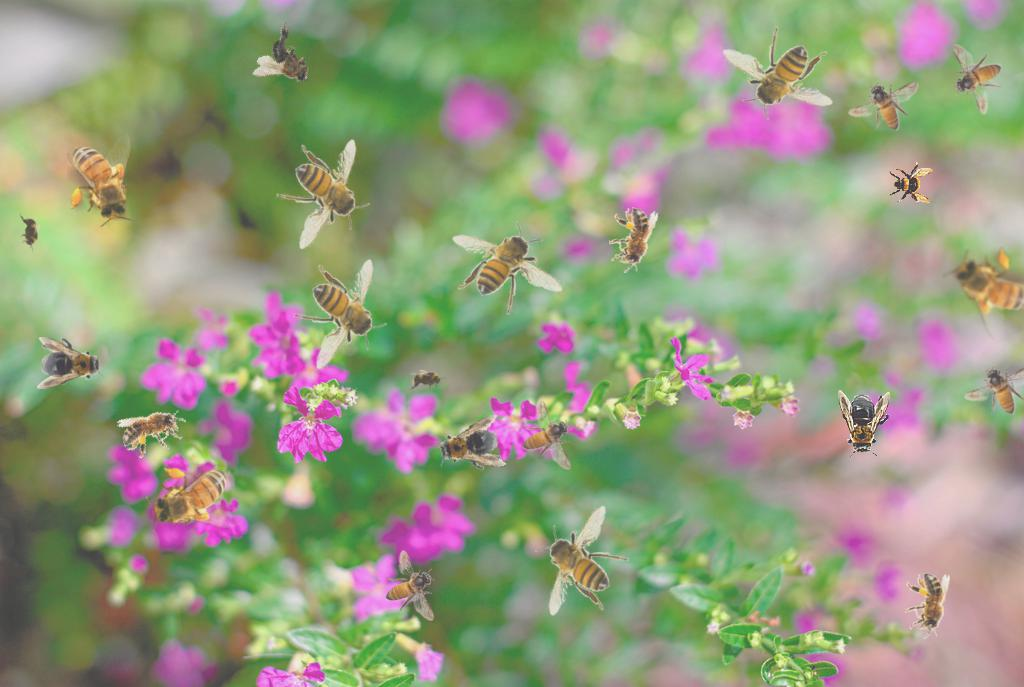Bee: (535, 505, 629, 616), (276, 139, 370, 250), (293, 259, 387, 370), (452, 221, 563, 315), (722, 26, 833, 120), (939, 230, 1024, 347), (249, 19, 328, 101), (146, 464, 239, 532), (67, 134, 135, 227), (114, 397, 194, 464), (430, 414, 508, 480), (605, 204, 659, 277), (848, 81, 919, 131), (385, 550, 435, 621), (522, 399, 572, 470), (952, 44, 1002, 115), (37, 337, 105, 389), (838, 390, 890, 458), (964, 365, 1024, 415), (905, 573, 950, 639), (889, 161, 933, 205), (407, 369, 447, 391), (19, 212, 41, 252)
